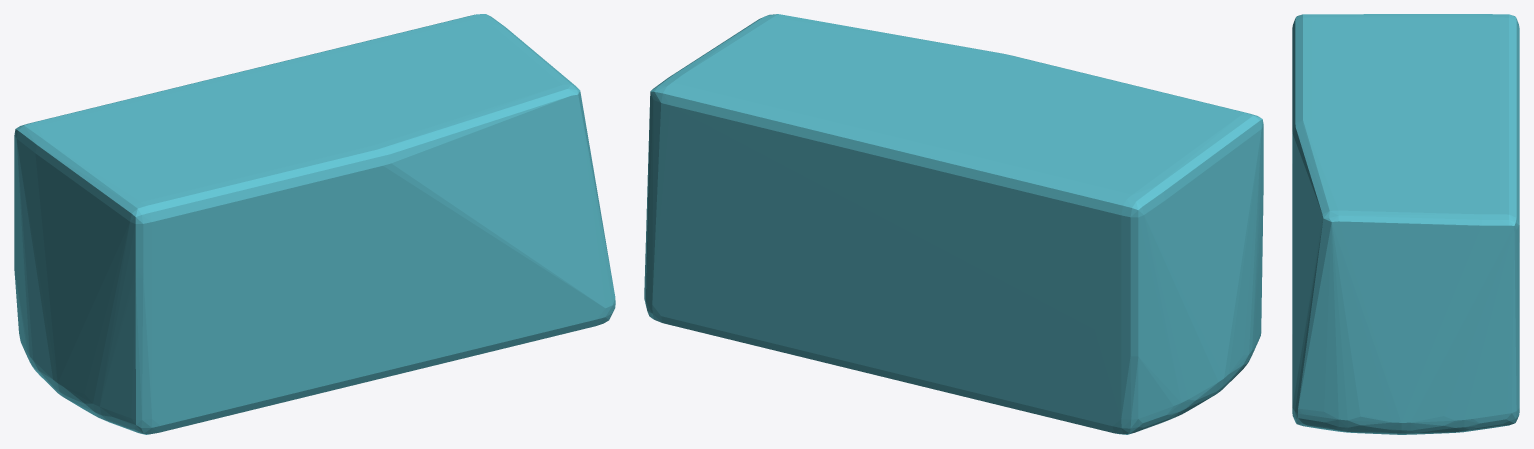
File: left_shoulder_pitch_link_part_2.obj
The picture shows the model from 3 angles, left to right: view 1: azimuth 30°, elevation 25°; view 2: azimuth 150°, elevation 25°; view 3: azimuth 270°, elevation 25°; orthographic projection. The views are drawn at different scales.
Size of the model in its own units: 0.0651 by 0.0274 by 0.027.
